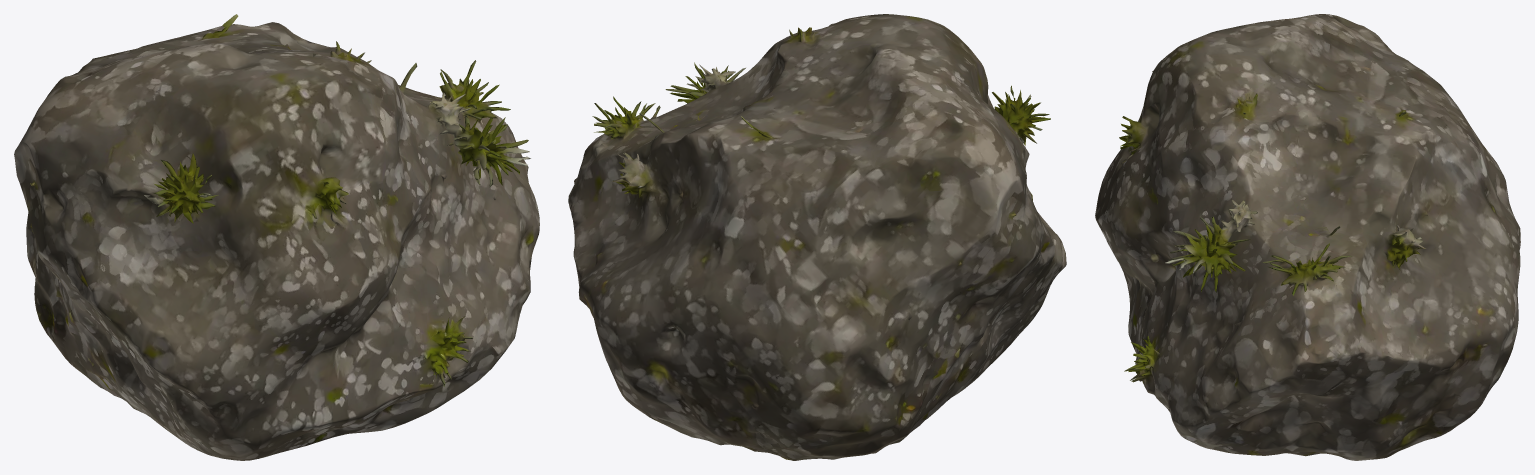
Rendered from prop_rock.glb.
3 renders of one model, left to right at view 1: azimuth 30°, elevation 25°; view 2: azimuth 150°, elevation 25°; view 3: azimuth 270°, elevation 25°, orthographic. The views are drawn at different scales.
Visible parts, largest first — view 1: tripo_node_6f35ca4a-1eec-49ca-a272-1e66a65ad5f0; view 2: tripo_node_6f35ca4a-1eec-49ca-a272-1e66a65ad5f0; view 3: tripo_node_6f35ca4a-1eec-49ca-a272-1e66a65ad5f0.
Part boxes in pixels (bbox=[...]): tripo_node_6f35ca4a-1eec-49ca-a272-1e66a65ad5f0: bbox=[14, 14, 539, 460]; tripo_node_6f35ca4a-1eec-49ca-a272-1e66a65ad5f0: bbox=[568, 14, 1066, 460]; tripo_node_6f35ca4a-1eec-49ca-a272-1e66a65ad5f0: bbox=[1095, 14, 1520, 460].
Bounding box in the file's own units: 1 × 0.7891 × 0.8454.
1 material, 1 textured.
